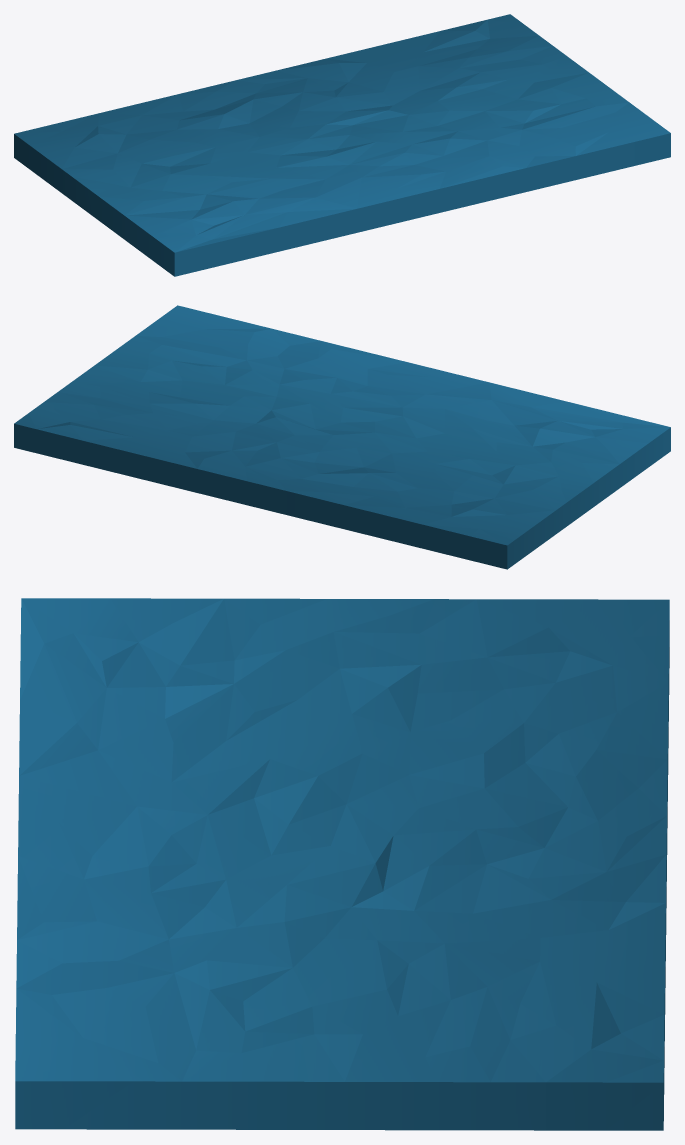
File: airndut.glb
3 views of the same model, one above another, from view 1: azimuth 30°, elevation 25°; view 2: azimuth 150°, elevation 25°; view 3: azimuth 270°, elevation 25° (orthographic). The views are drawn at different scales.
Visible parts, largest first — view 1: water_location_christmas_village.001; view 2: water_location_christmas_village.001; view 3: water_location_christmas_village.001.
Part boxes in pixels (x1,y1,x2,y2): water_location_christmas_village.001: (14, 14, 670, 276); water_location_christmas_village.001: (14, 305, 670, 569); water_location_christmas_village.001: (15, 598, 669, 1130).
Bounding box in the file's own units: 79.98 × 4.24 × 45.67.
Materials: 1 (1 with a texture image).
